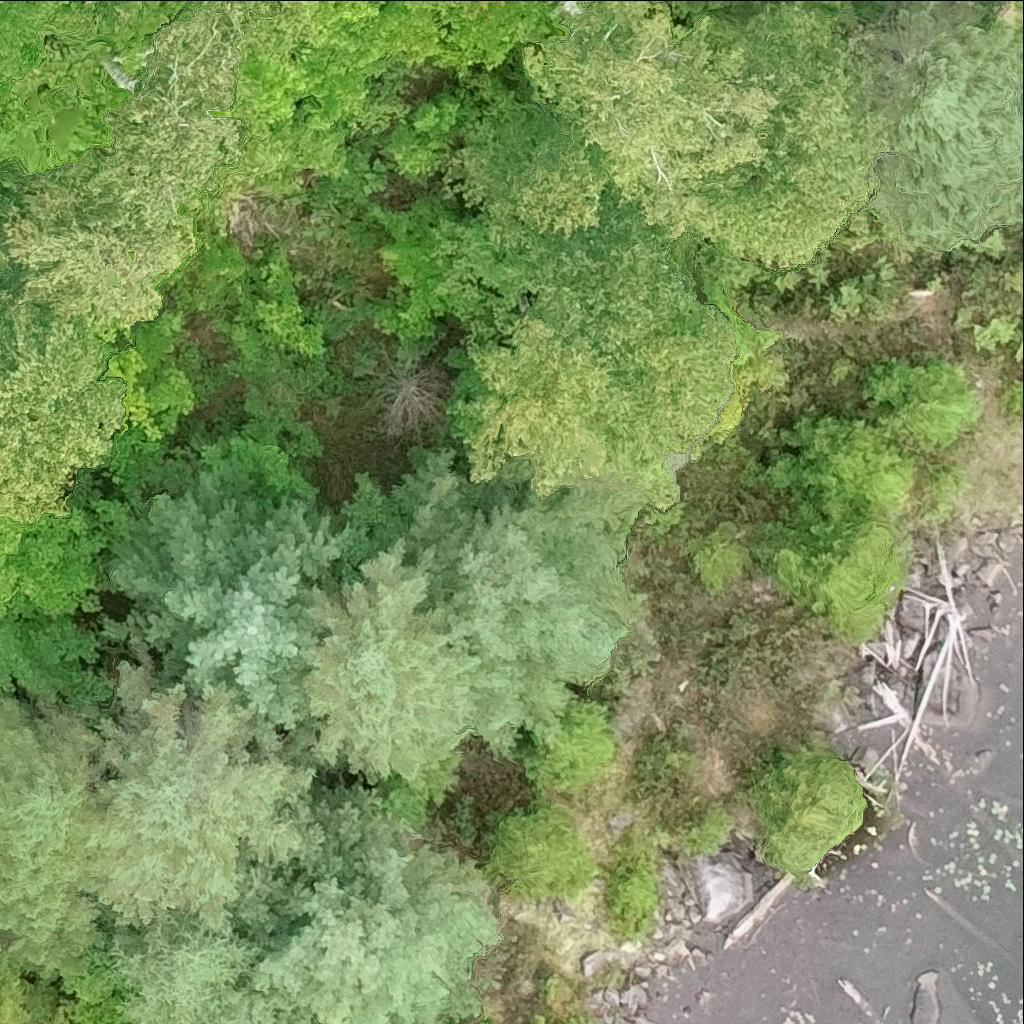crown: (447, 215, 736, 511), (67, 662, 349, 952), (383, 447, 645, 758), (489, 0, 803, 238), (102, 465, 350, 754), (221, 780, 501, 1023), (426, 75, 646, 353), (696, 0, 886, 288), (4, 108, 219, 341), (831, 0, 1023, 251), (301, 552, 481, 783), (690, 487, 898, 646), (0, 695, 115, 978), (0, 0, 186, 170), (109, 0, 266, 158), (0, 327, 126, 520), (742, 414, 923, 520), (110, 913, 261, 1023), (372, 0, 569, 77), (757, 749, 866, 883), (861, 356, 979, 453), (484, 801, 596, 901), (515, 700, 613, 793), (646, 0, 789, 31), (0, 980, 68, 1023), (316, 0, 387, 23), (980, 0, 1023, 33), (805, 0, 888, 16), (567, 1014, 598, 1023), (532, 1017, 548, 1023), (478, 1020, 494, 1023), (446, 1021, 452, 1023)
